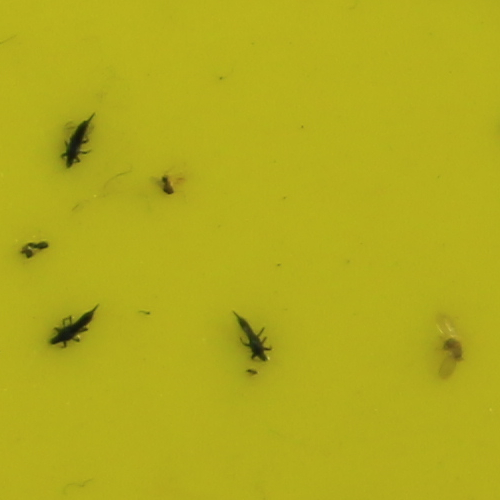psylla: (440, 337, 466, 363)
